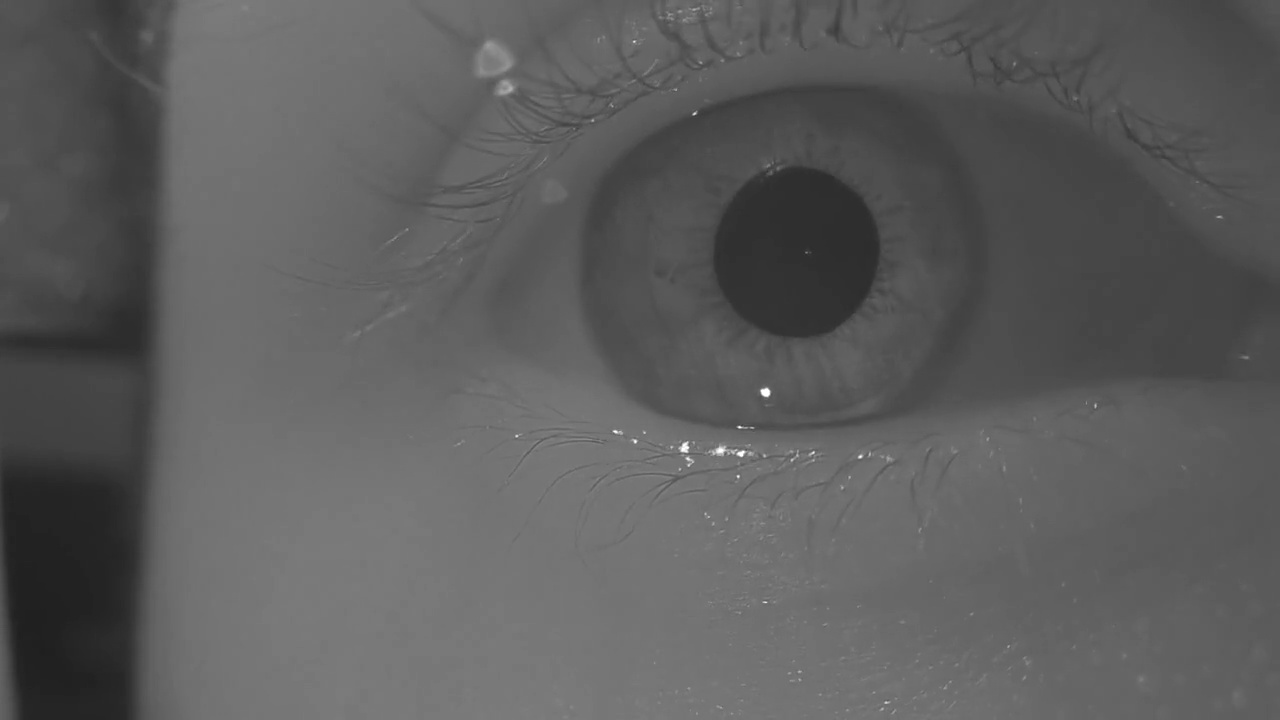pupil: (713, 164, 879, 336)
